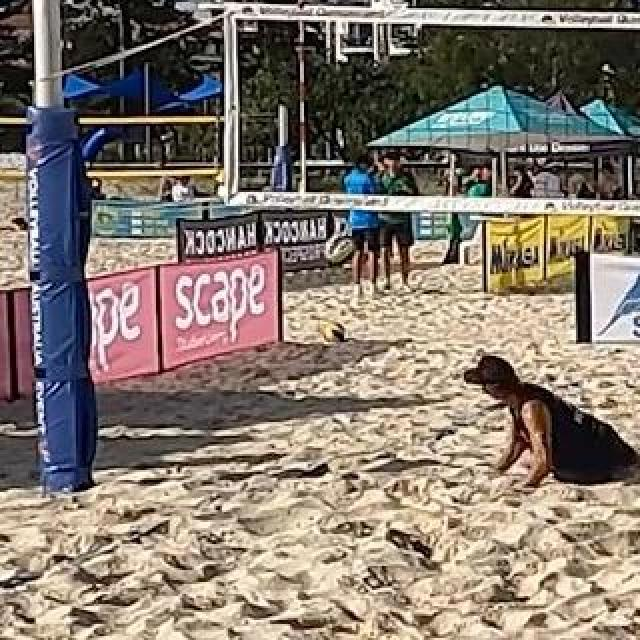volleyball: (322, 321, 344, 343)
